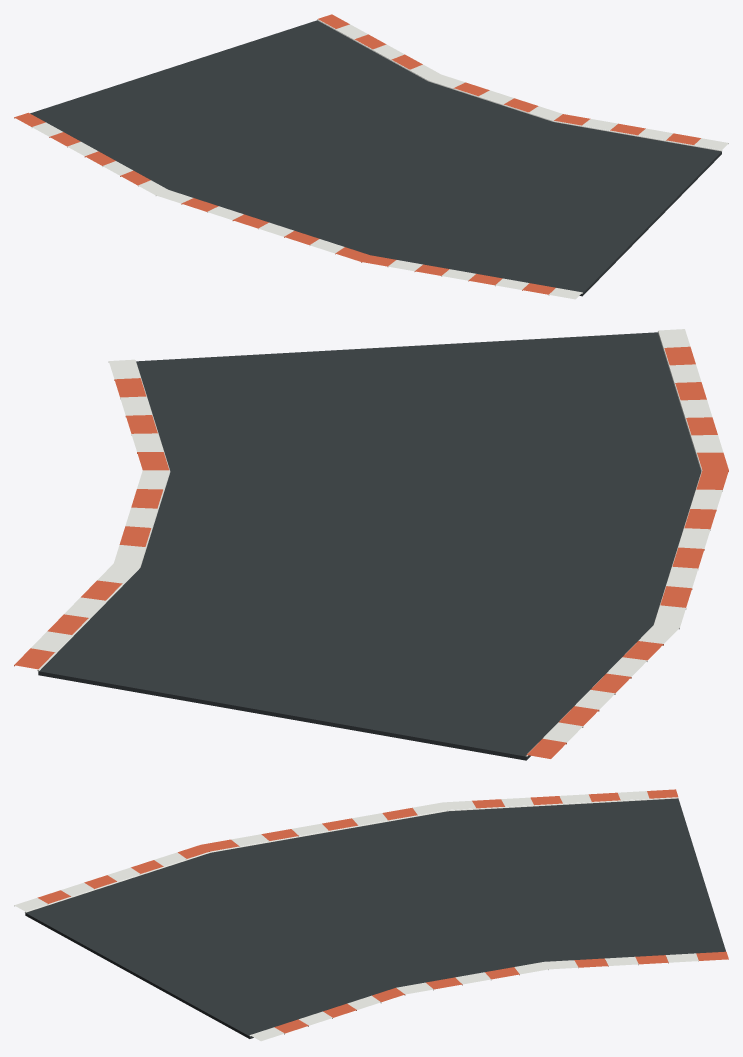
The model's file is track_corner45.glb.
The picture shows the model from 3 angles, top to bottom: view 1: azimuth 30°, elevation 25°; view 2: azimuth 150°, elevation 25°; view 3: azimuth 270°, elevation 25°; orthographic projection. The views are drawn at different scales.
Visible parts, largest first — view 1: corner-45; view 2: corner-45; view 3: corner-45.
Boxes of the visible parts, x1,y1,x2,y2 form: corner-45: (14, 14, 728, 299); corner-45: (14, 329, 728, 760); corner-45: (14, 789, 728, 1041).
Size of the model in its own units: 19.4 by 0.1447 by 23.26.
